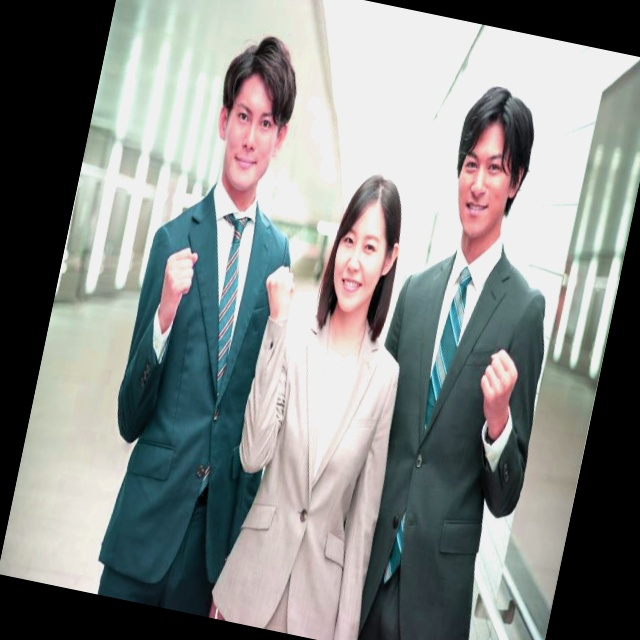Sin_Casco_Mascarrilla: (440, 79, 545, 239), (206, 29, 306, 190), (321, 168, 414, 322)
Sin_Chaleco: (89, 192, 309, 586), (332, 247, 545, 640), (219, 320, 408, 640)
